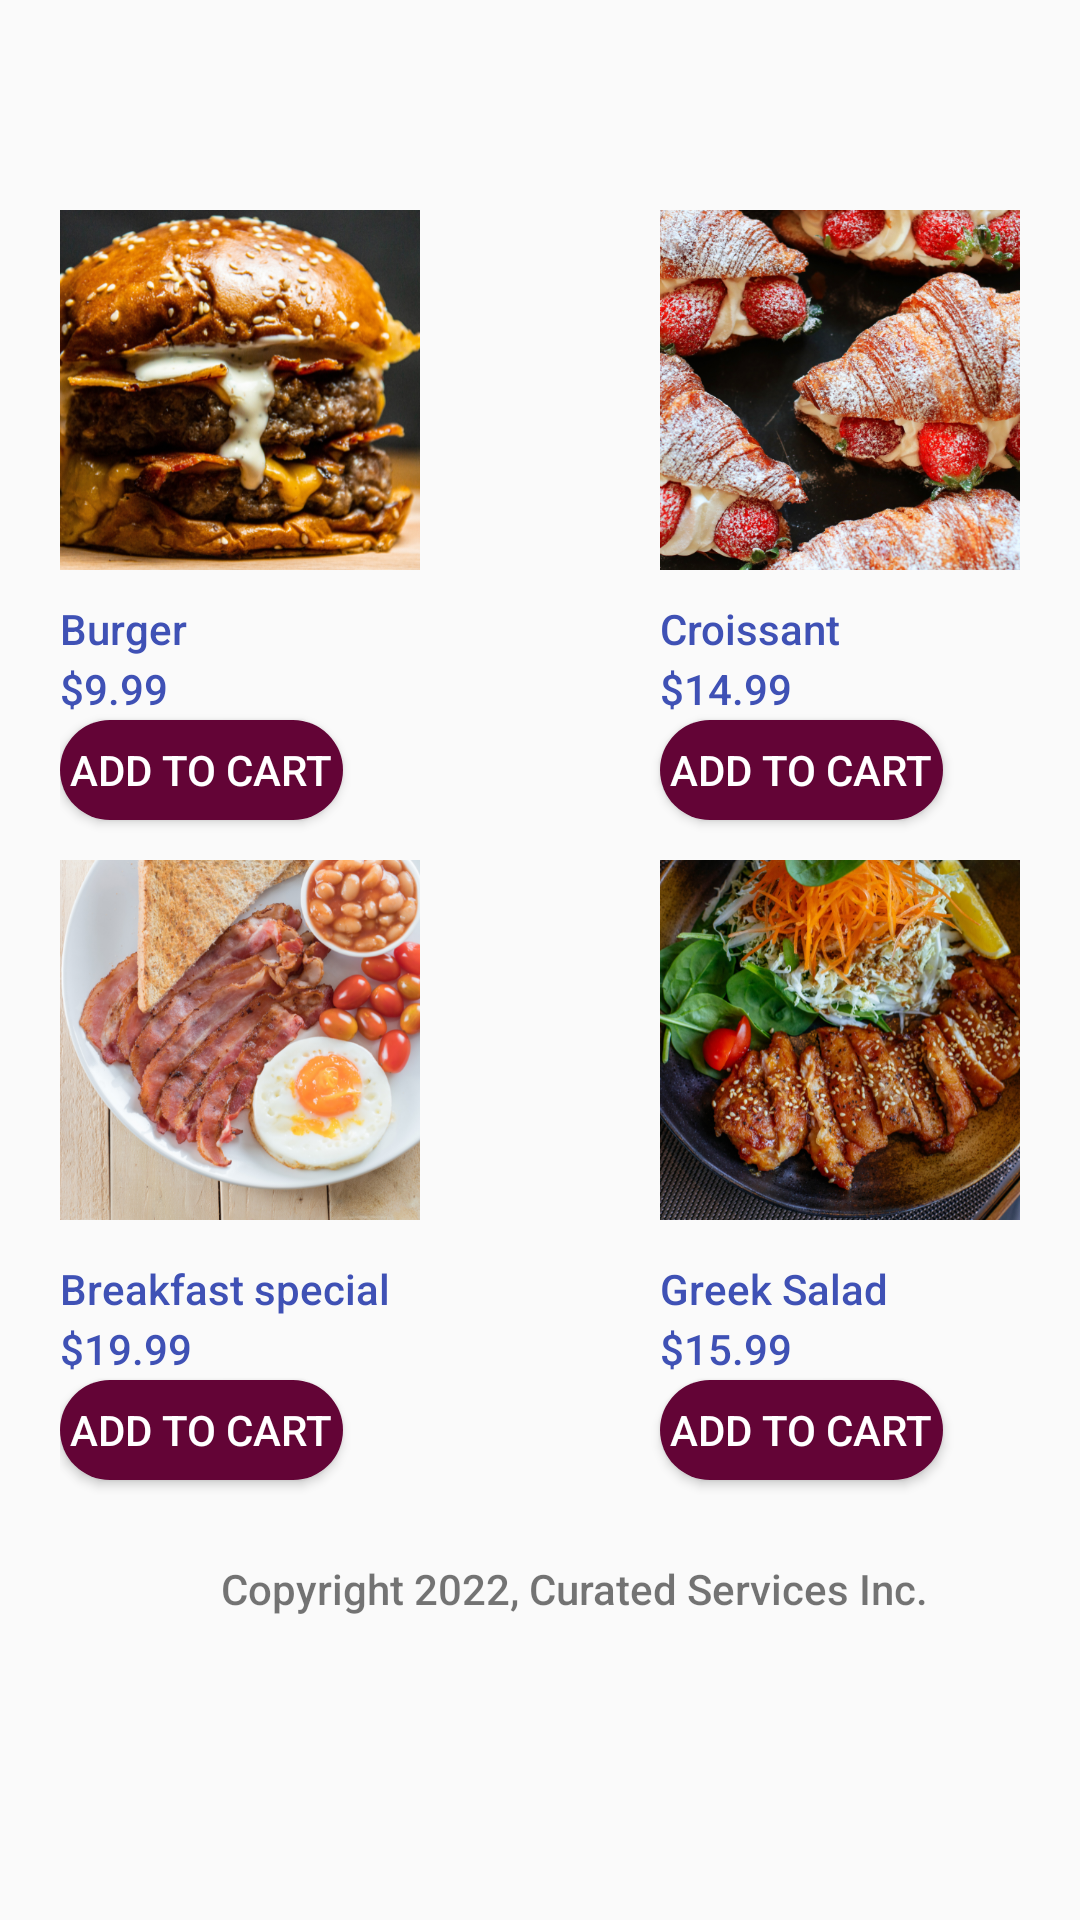

Named icons in this screenshot (1080px×1920px) and their centers, [x,y]:
eggs: [240,1040]
